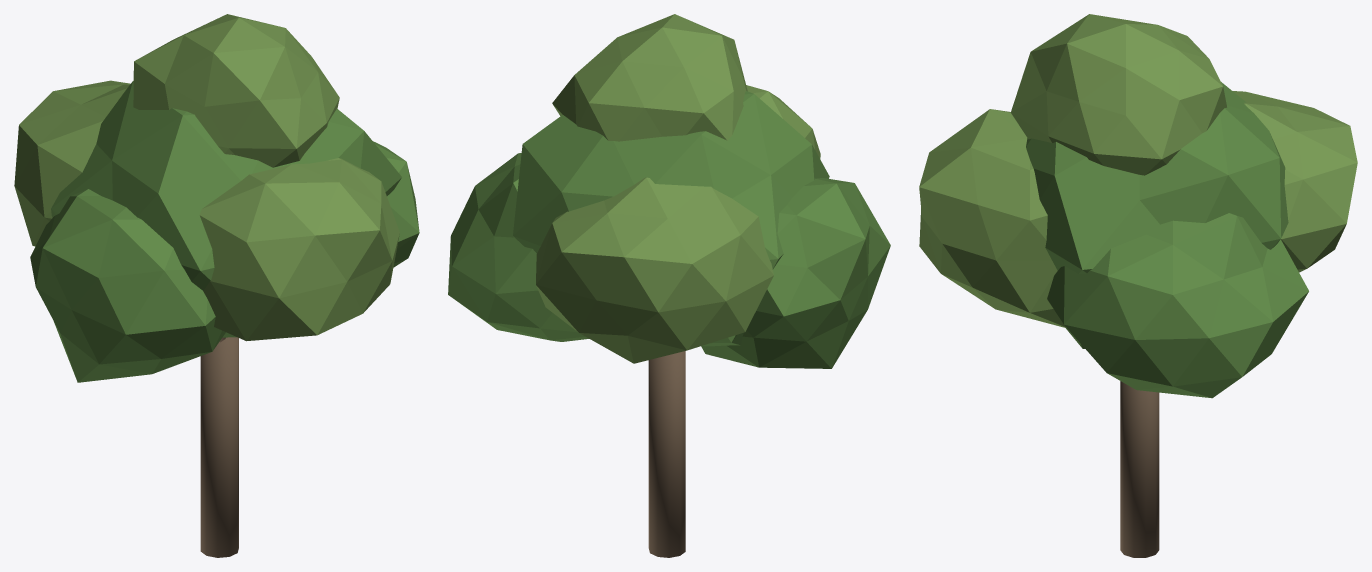
File: MRW_Latifoglia.glb
3 views of the same model, side by side, from view 1: azimuth 30°, elevation 25°; view 2: azimuth 150°, elevation 25°; view 3: azimuth 270°, elevation 25° (orthographic). The views are drawn at different scales.
Visible parts, largest first — view 1: MRW_Latifoglia; view 2: MRW_Latifoglia; view 3: MRW_Latifoglia.
Boxes of the visible parts, x1,y1,x2,y2 form: MRW_Latifoglia: [14, 14, 419, 557]; MRW_Latifoglia: [448, 14, 890, 557]; MRW_Latifoglia: [919, 14, 1357, 557].
Size of the model in its own units: 6.33 by 8.4 by 6.27.
